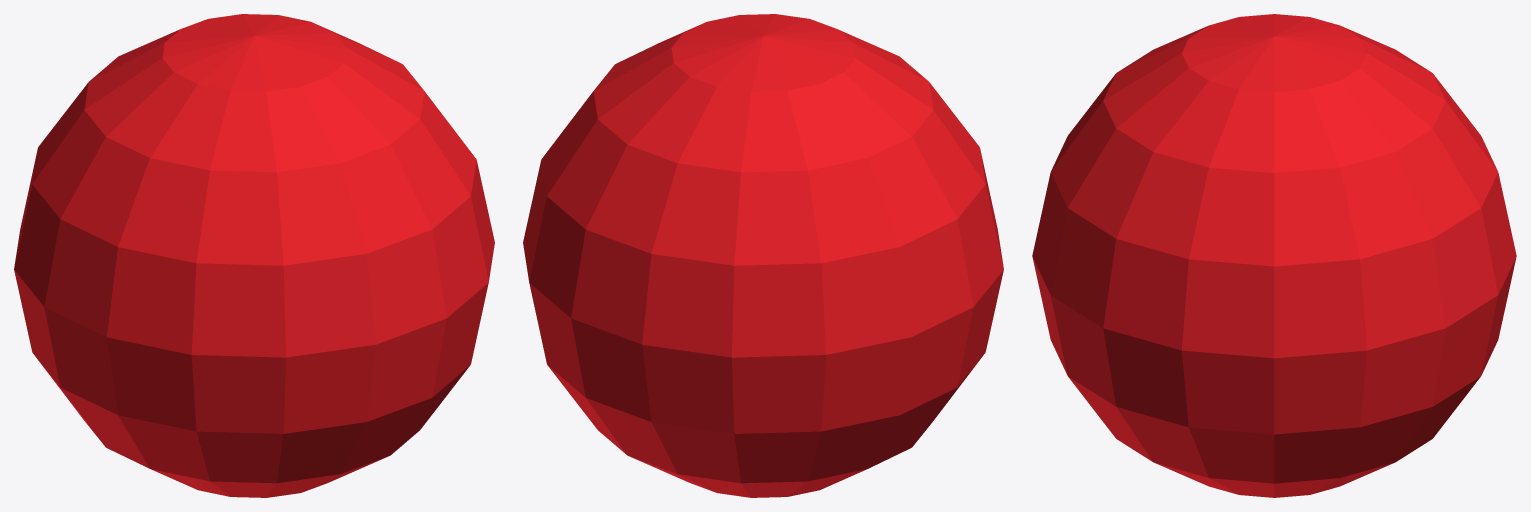
The model's file is ball.obj.
3 renders of one model, left to right at view 1: azimuth 30°, elevation 25°; view 2: azimuth 150°, elevation 25°; view 3: azimuth 270°, elevation 25°, orthographic.
Parts seen in each view (by area): view 1: Sphere; view 2: Sphere; view 3: Sphere.
Boxes of the visible parts, x1,y1,x2,y2 form: Sphere: (14, 14, 494, 497); Sphere: (523, 14, 1003, 497); Sphere: (1032, 14, 1516, 497).
Bounding box in the file's own units: 2 × 2 × 2.
